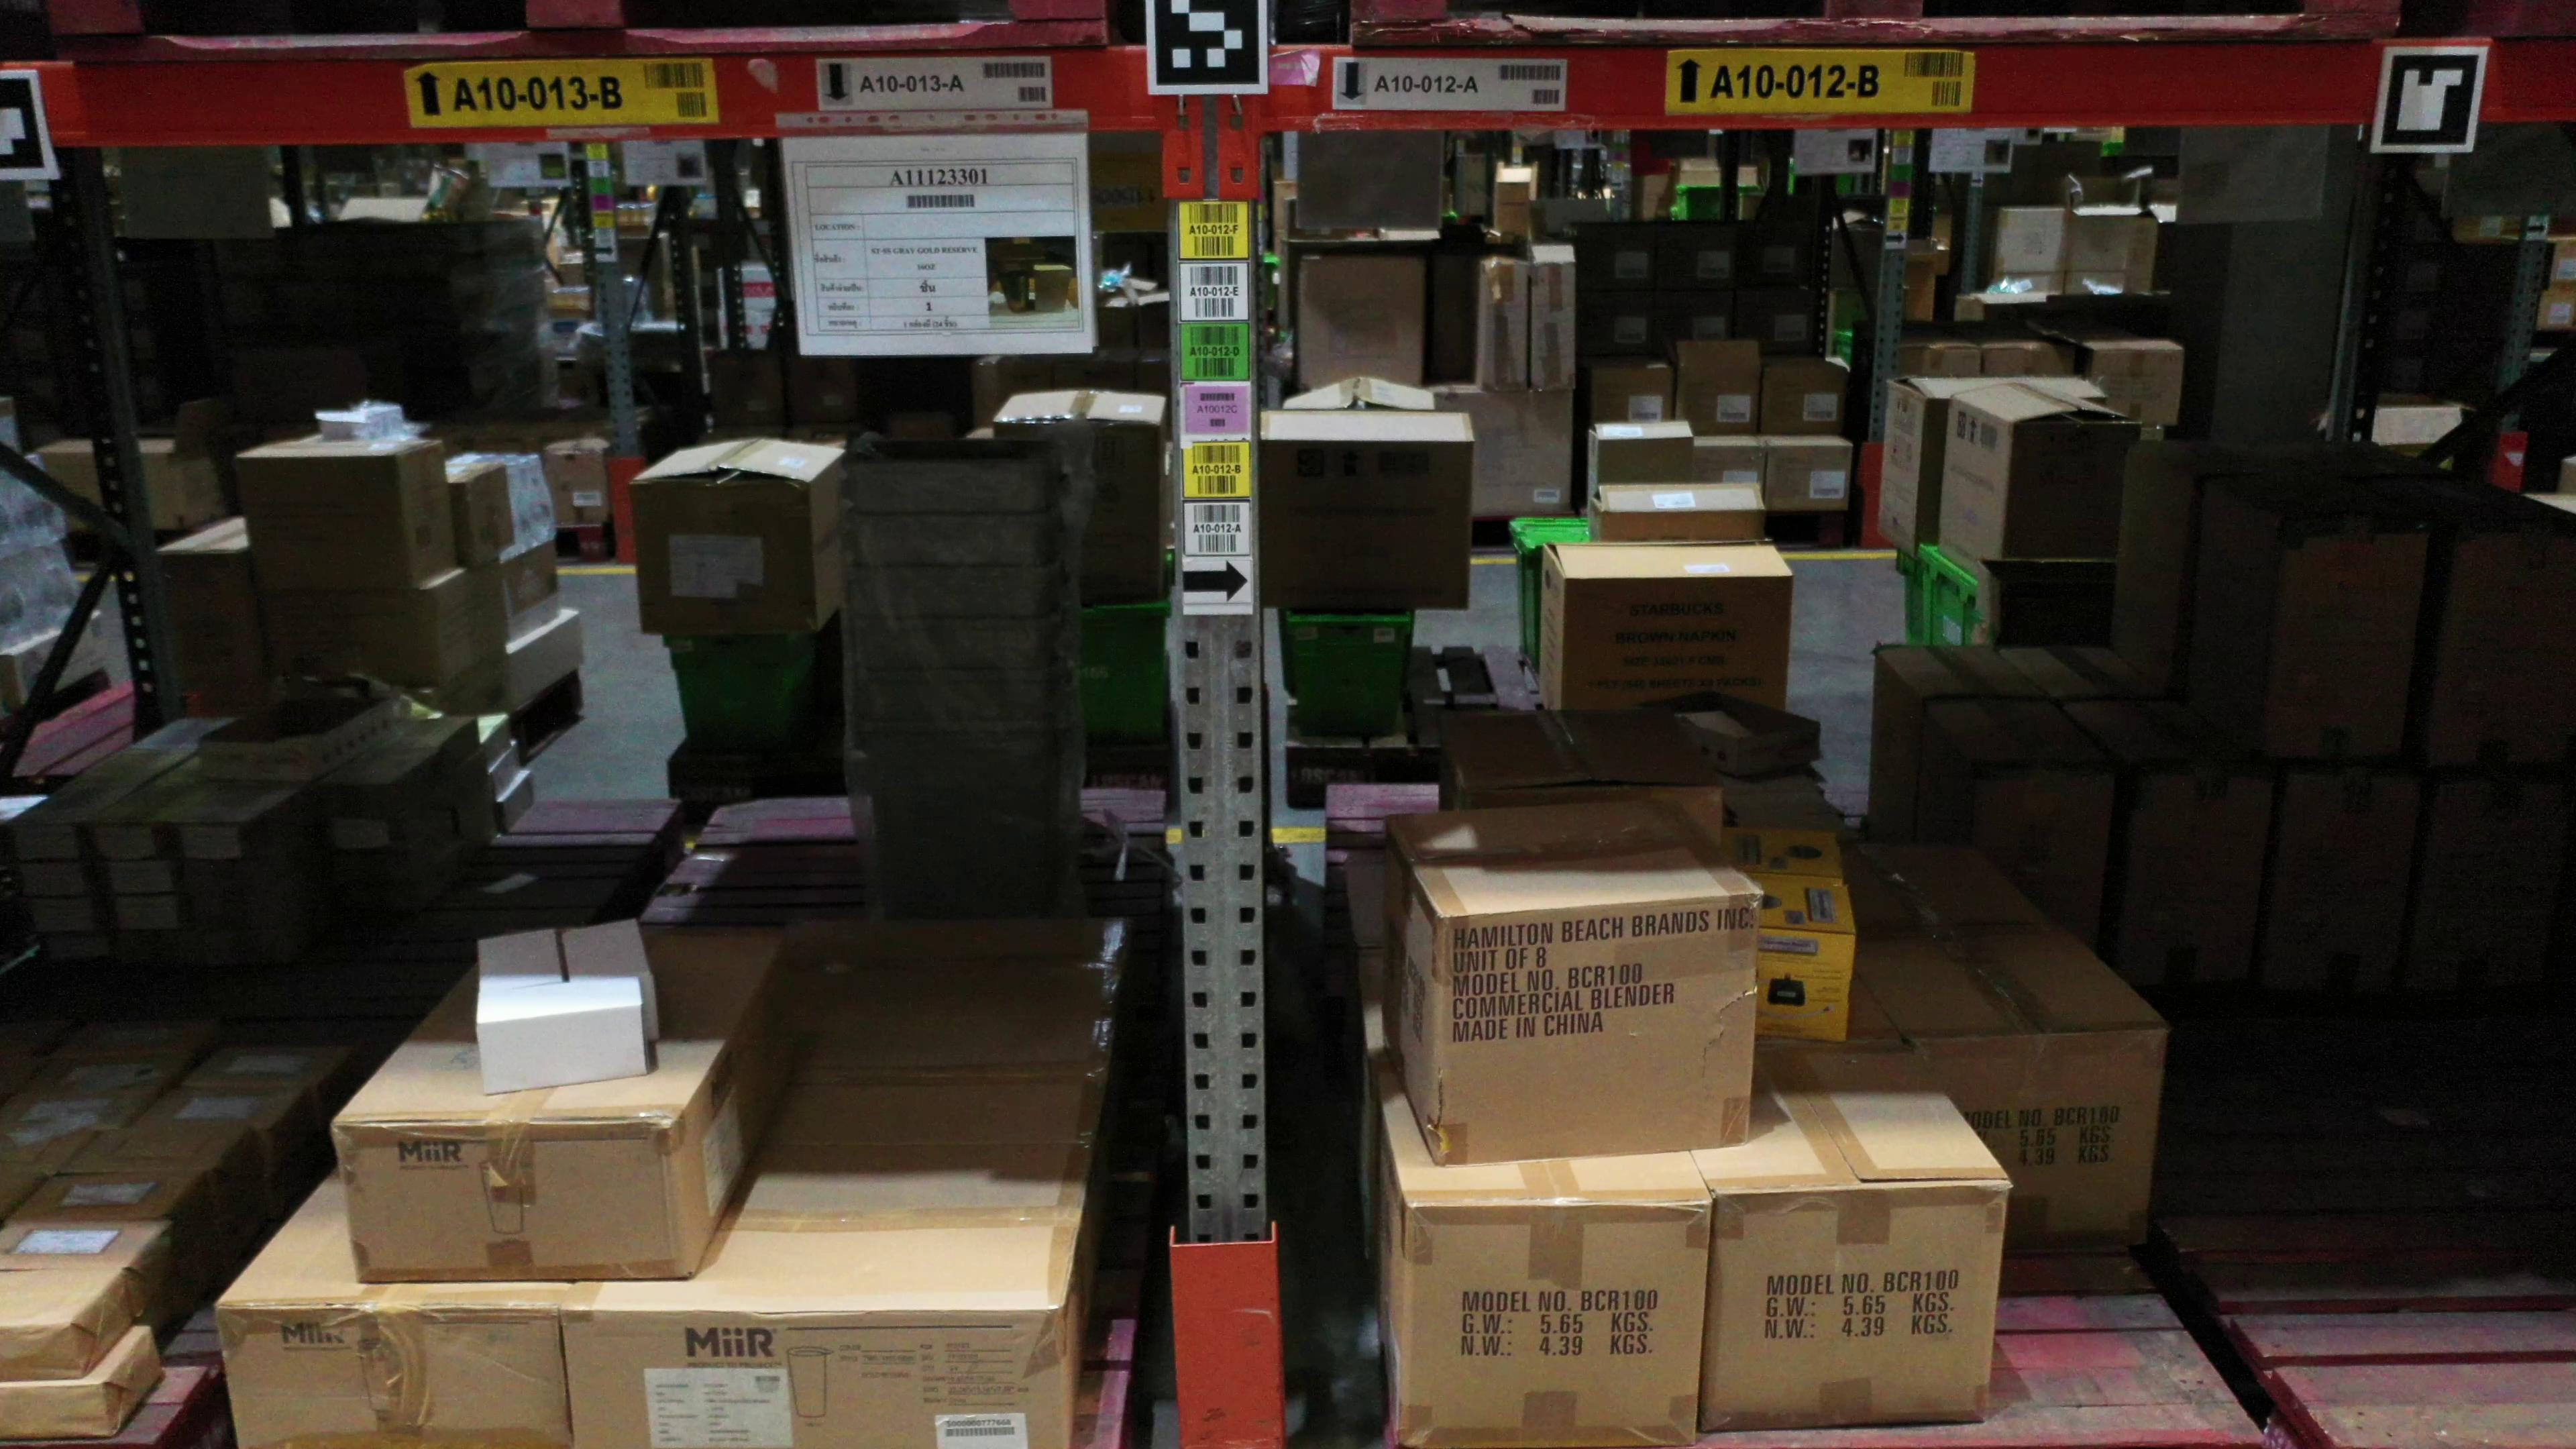-: (1438, 892, 1760, 1164), (1702, 1178, 2015, 1433), (1399, 1203, 1713, 1449), (557, 1306, 1067, 1449), (329, 1120, 692, 1286), (1914, 1028, 2167, 1260), (212, 1302, 570, 1449), (472, 1001, 653, 1095), (1753, 924, 1858, 1047), (0, 1380, 111, 1444), (0, 1323, 83, 1384)
box: (2399, 773, 2576, 1010), (2265, 518, 2426, 768), (2259, 773, 2424, 1010), (2116, 773, 2277, 1010), (2422, 531, 2576, 773), (869, 731, 1056, 922), (1967, 763, 2116, 955), (858, 671, 1051, 731), (849, 458, 1042, 515), (847, 566, 1042, 621), (847, 621, 1047, 671), (853, 515, 1042, 566), (198, 738, 313, 782), (166, 821, 258, 862), (2, 821, 92, 862), (11, 858, 101, 899), (318, 817, 409, 856), (179, 860, 271, 897), (104, 893, 195, 931), (191, 892, 281, 929), (96, 862, 189, 897), (23, 897, 110, 934), (90, 824, 172, 862), (313, 784, 396, 819), (198, 929, 285, 961), (37, 929, 120, 961), (115, 929, 202, 959), (336, 878, 419, 906), (329, 853, 410, 878)
